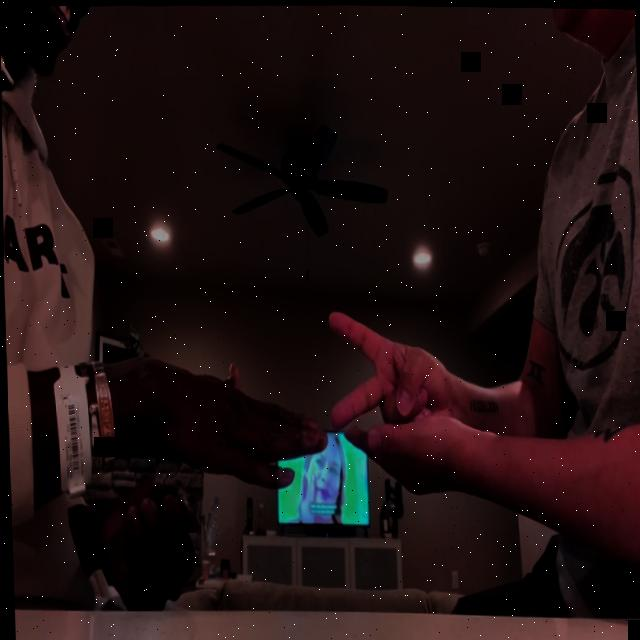Paper: (133, 350, 327, 498)
Scissors: (325, 306, 453, 437)
